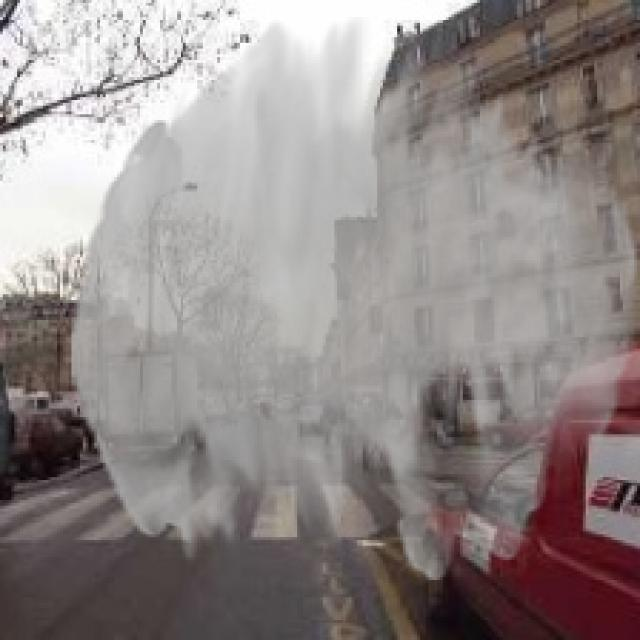smoke: (72, 17, 637, 583)
